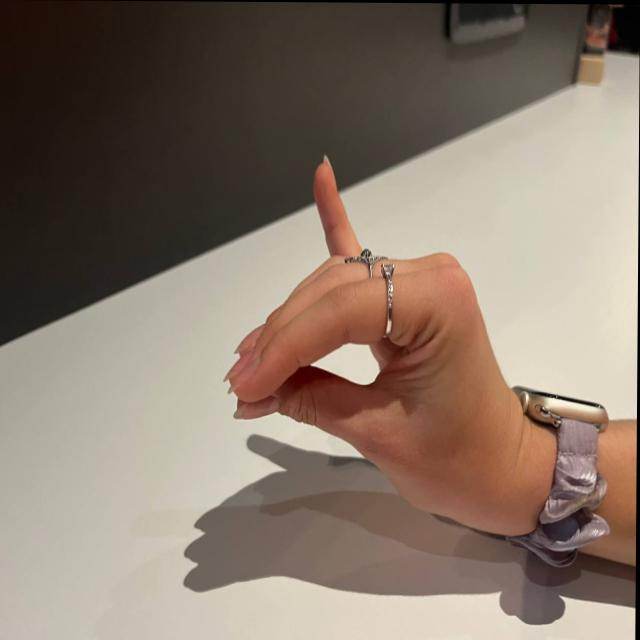iu: (211, 143, 535, 521)
